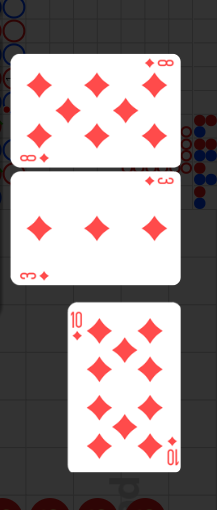10D: (69, 310, 83, 342), (165, 435, 178, 467)
8D: (143, 57, 175, 69)
